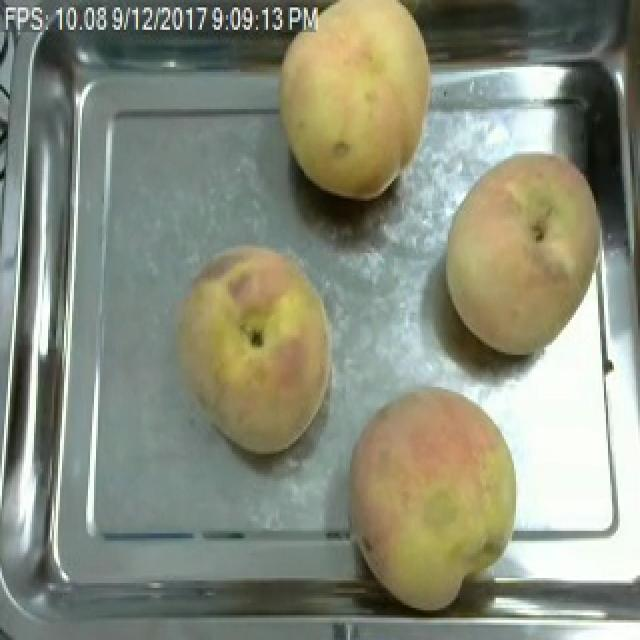Fruit: (336, 380, 532, 618), (434, 141, 614, 365), (166, 240, 342, 462), (268, 0, 442, 206)
